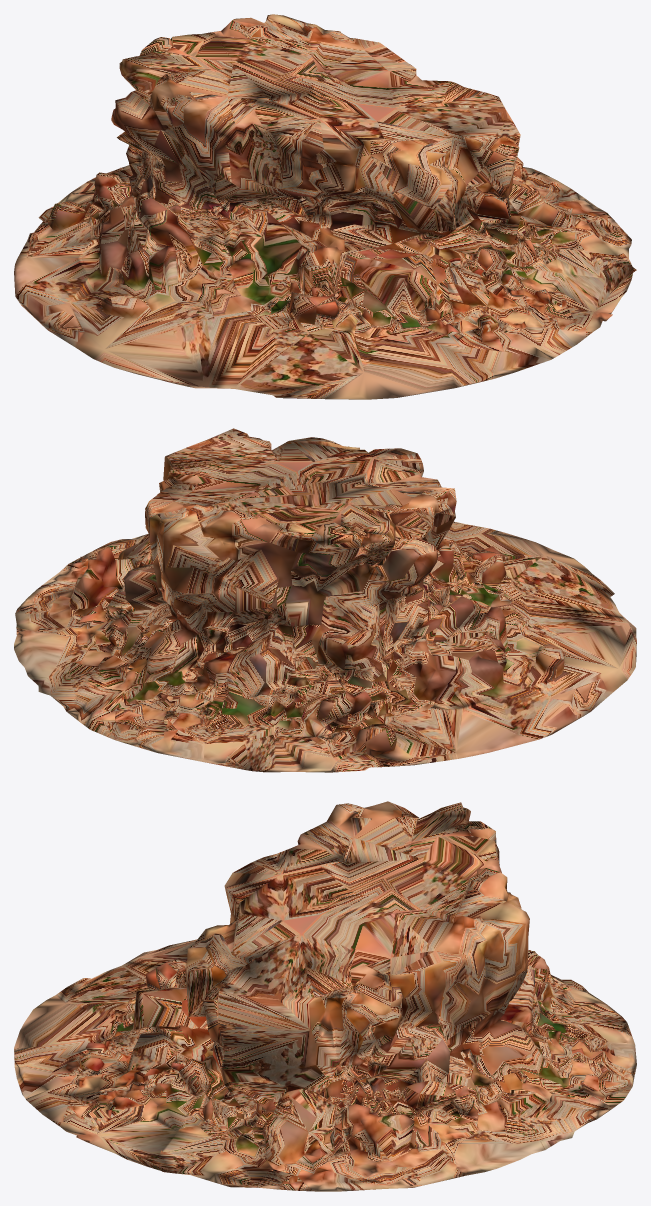
The model's file is Desert_Monolith.glb.
The picture shows the model from 3 angles, top to bottom: view 1: azimuth 30°, elevation 25°; view 2: azimuth 150°, elevation 25°; view 3: azimuth 270°, elevation 25°; orthographic projection.
Visible parts, largest first — view 1: Desert_Monolith; view 2: Desert_Monolith; view 3: Desert_Monolith.
Boxes of the visible parts, x1,y1,x2,y2 form: Desert_Monolith: [14, 14, 636, 399]; Desert_Monolith: [14, 428, 636, 772]; Desert_Monolith: [14, 801, 636, 1191].
Bounding box in the file's own units: 1.9 × 0.6501 × 1.9.
1 material, 1 textured.
